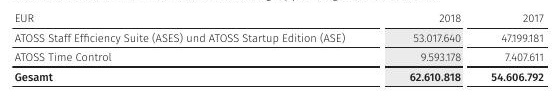table: (0, 0, 559, 97)
